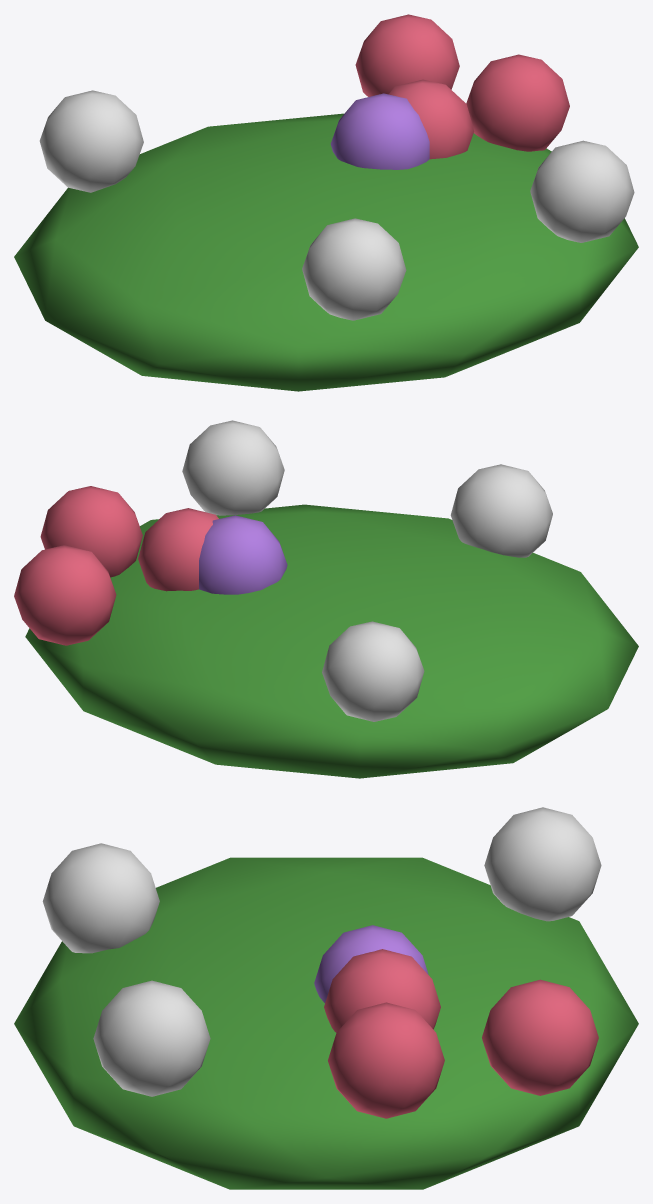
The model's file is flowers.glb.
3 renders of one model, top to bottom at view 1: azimuth 30°, elevation 25°; view 2: azimuth 150°, elevation 25°; view 3: azimuth 270°, elevation 25°, orthographic. The views are drawn at different scales.
Parts seen in each view (by area): view 1: flowers; view 2: flowers; view 3: flowers.
Part boxes in pixels (x1,y1,x2,y2): flowers: (14, 14, 638, 391); flowers: (14, 420, 638, 778); flowers: (14, 807, 638, 1189).
Size of the model in its own units: 1.12 by 0.37 by 0.96.
